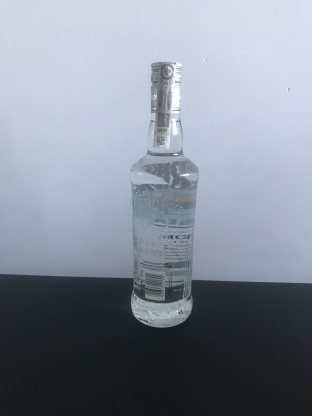nakretka: (148, 58, 184, 115)
